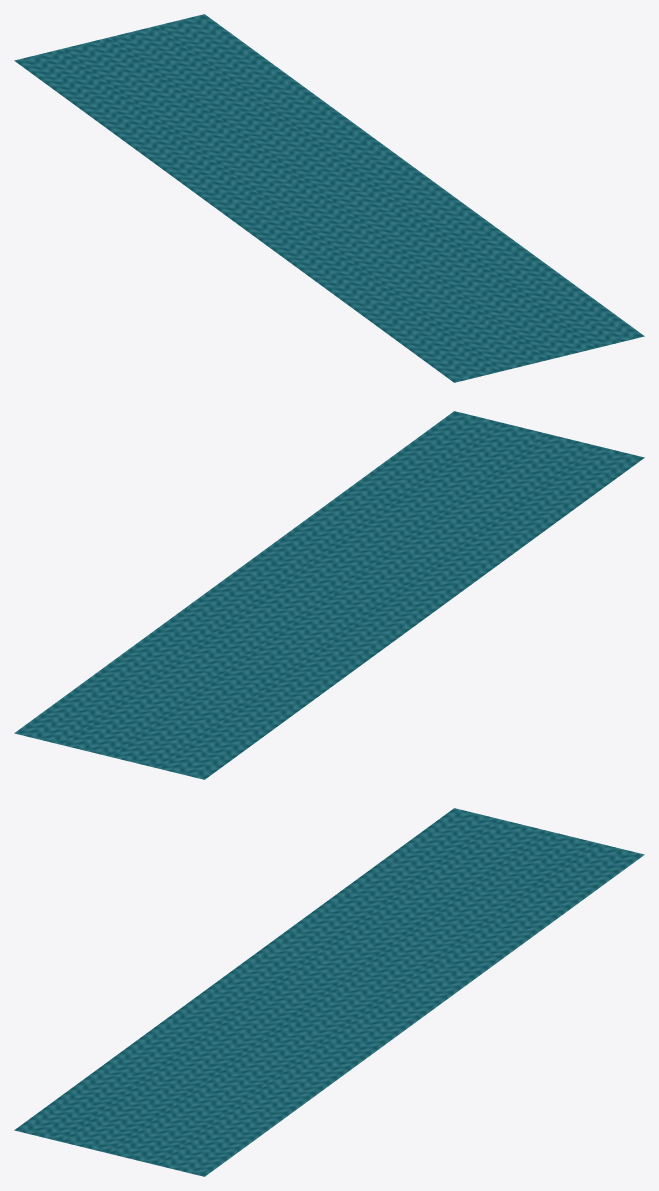
Rendered from canal-water.obj.
3 renders of one model, top to bottom at view 1: azimuth 30°, elevation 25°; view 2: azimuth 150°, elevation 25°; view 3: azimuth 330°, elevation 25°, orthographic.
Size of the model in its own units: 8 by 0 by 32.
1 material, 1 textured.
